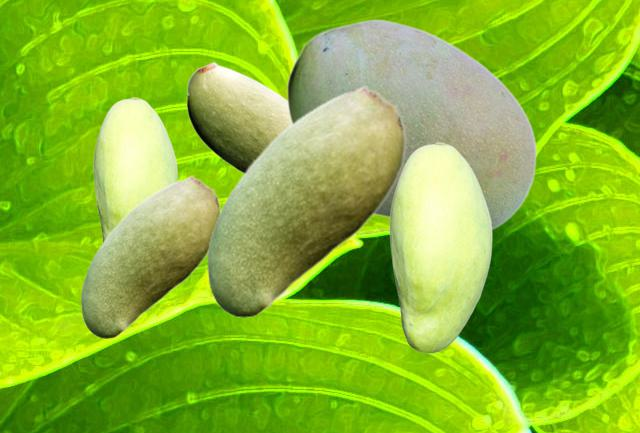green_mango: (286, 18, 536, 230), (206, 85, 405, 316), (80, 175, 220, 337), (389, 142, 491, 352), (93, 97, 176, 241), (186, 61, 289, 172)
